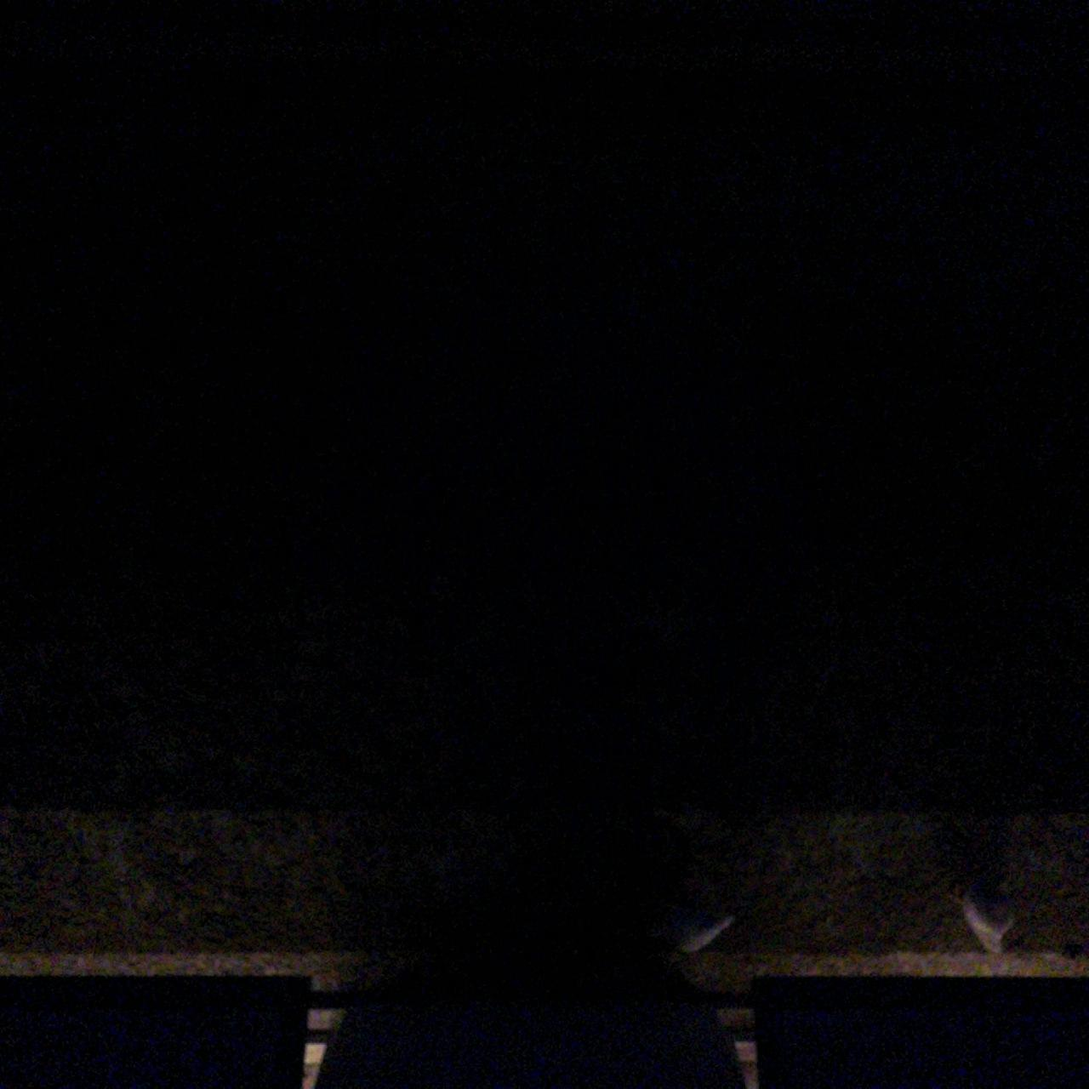chicken: (948, 871, 1021, 969), (656, 886, 742, 968)
